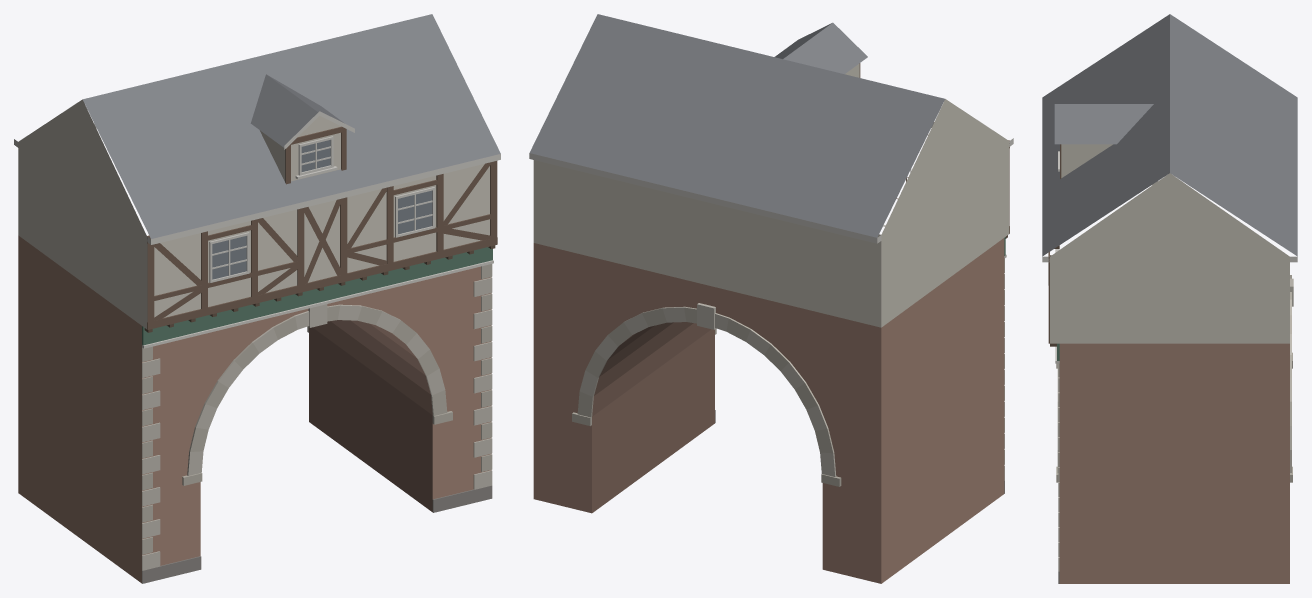
Rendered from gatehouse.glb.
3 views of the same model, side by side, from view 1: azimuth 30°, elevation 25°; view 2: azimuth 150°, elevation 25°; view 3: azimuth 270°, elevation 25° (orthographic). The views are drawn at different scales.
Visible parts, largest first — view 1: Part0; view 2: Part0; view 3: Part0.
Part boxes in pixels (bbox=[...]): Part0: bbox=[14, 14, 500, 583]; Part0: bbox=[529, 14, 1013, 583]; Part0: bbox=[1042, 14, 1297, 583].
Size of the model in its own units: 9.8 by 11.8 by 6.65.
